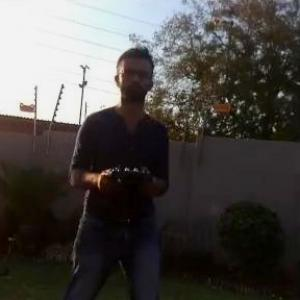follow: (57, 41, 174, 299)
